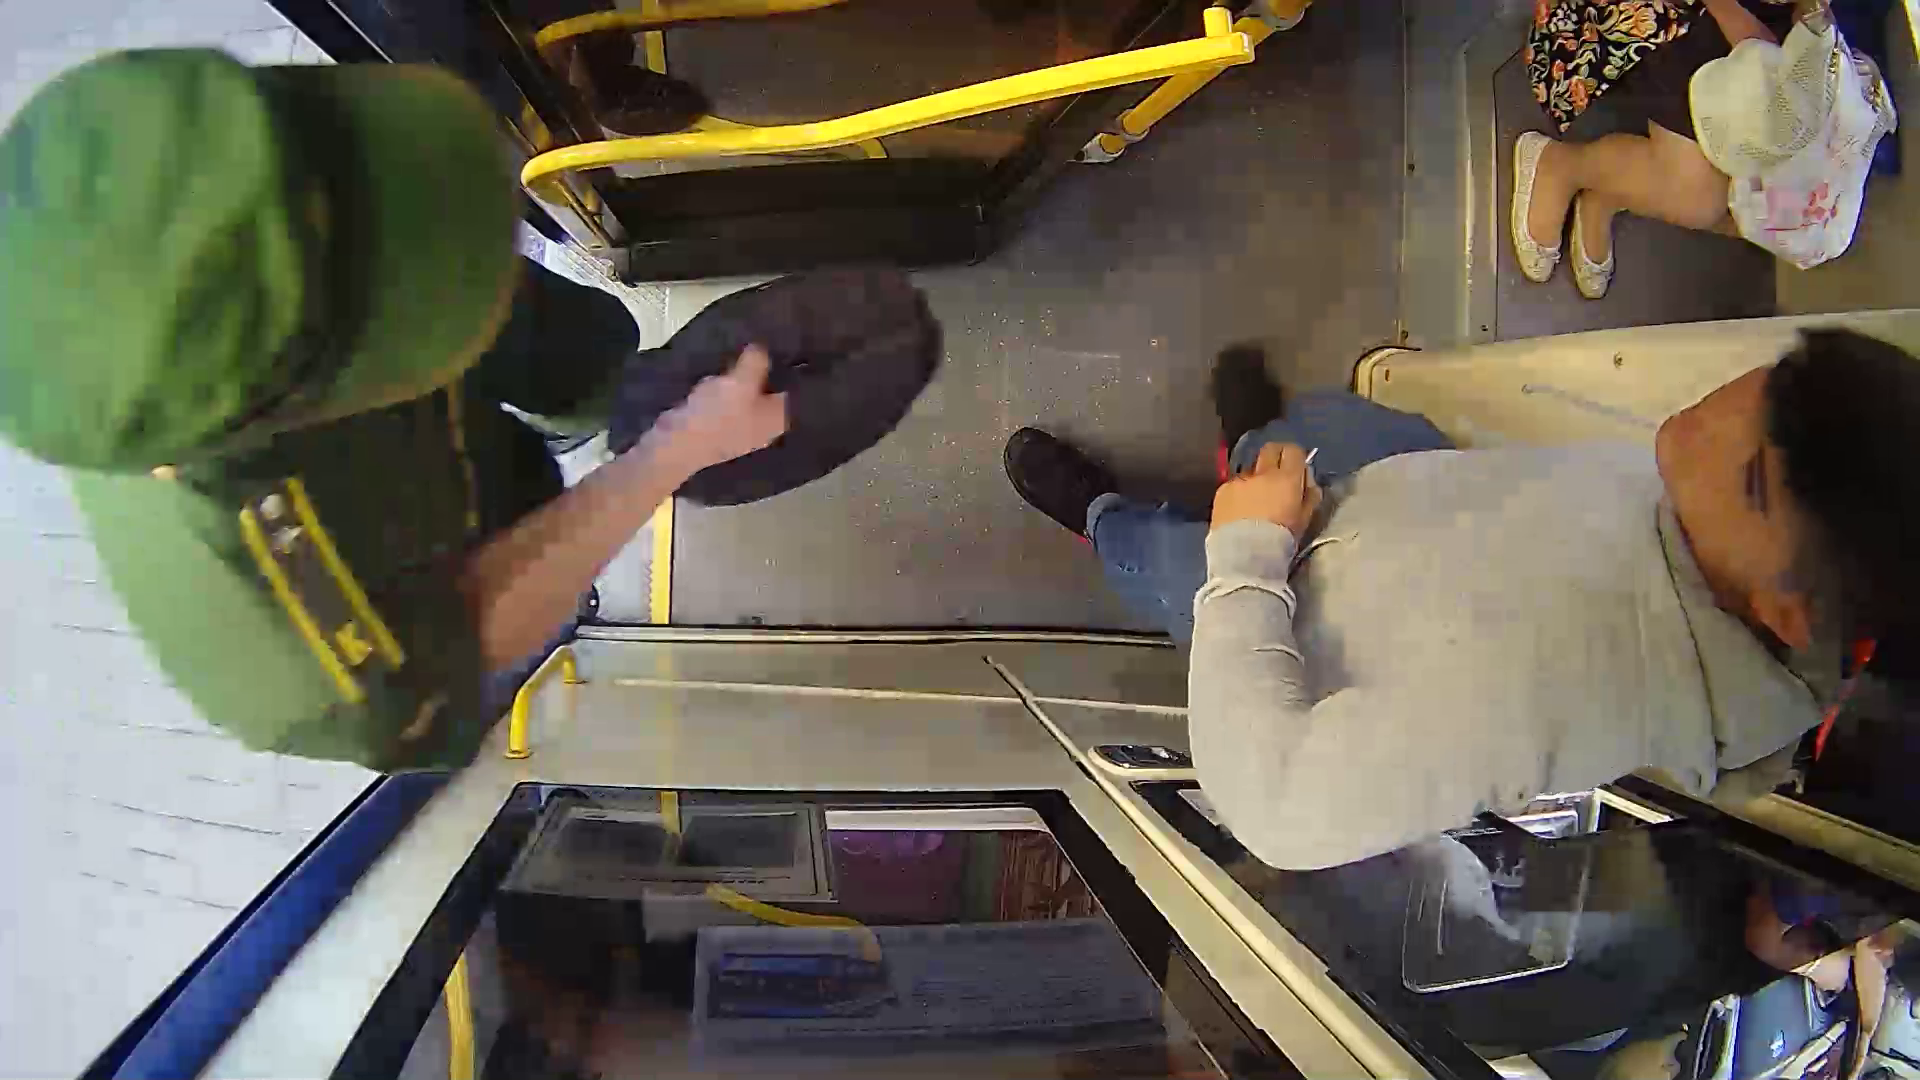person: (14, 23, 929, 713), (1039, 177, 1864, 842)
